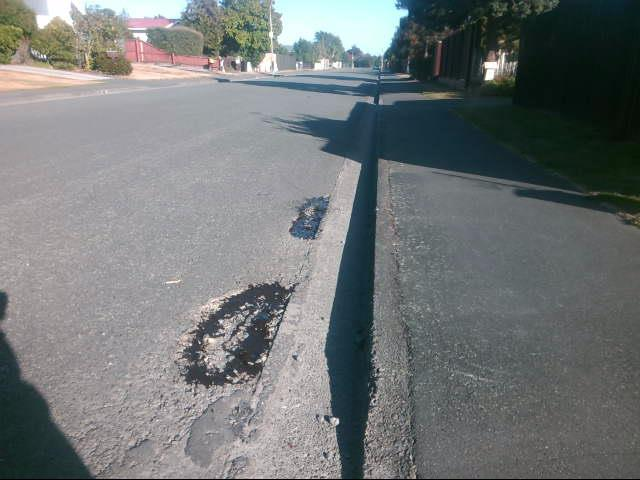pothole: (182, 280, 290, 391), (290, 192, 328, 241)
